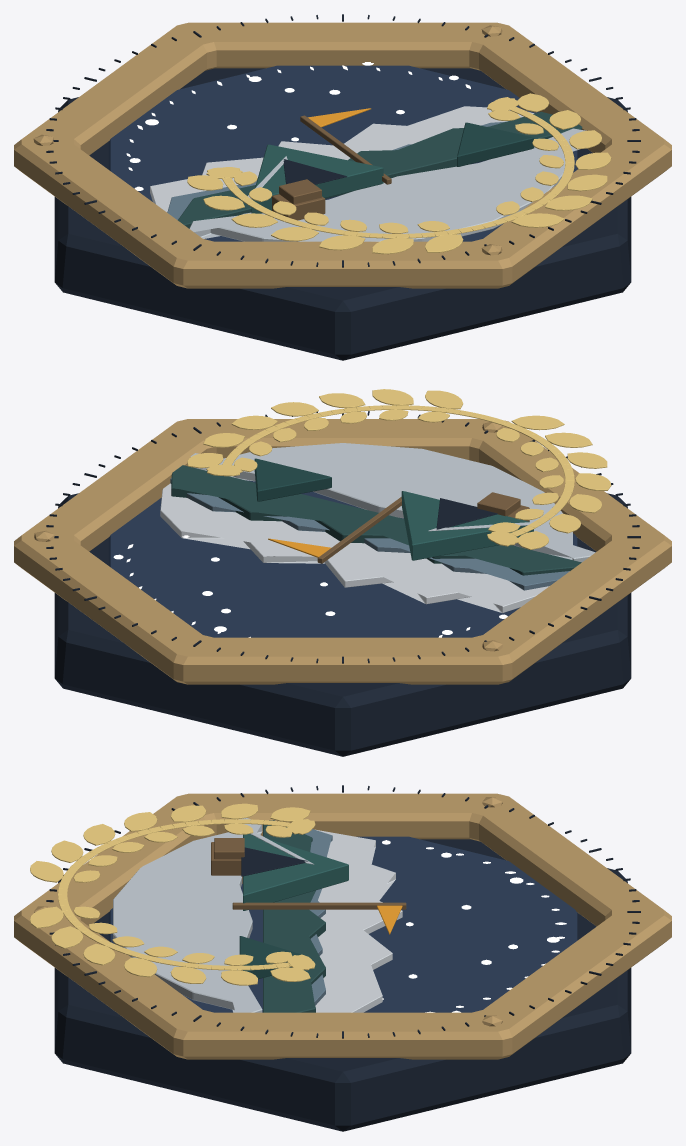
File: basecamp_grad.glb
The picture shows the model from 3 angles, top to bottom: view 1: azimuth 30°, elevation 25°; view 2: azimuth 150°, elevation 25°; view 3: azimuth 270°, elevation 25°; orthographic projection.
Parts seen in each view (by area): view 1: BG_FrameRing, BG_BasePlate, BG_Field, BC_Snow, BC_LeavesL, BC_LeavesR, BC_FarRange, BC_Ridge, BC_TentMain, BC_TentSmall, BC_StemL, BC_StemR (+7 smaller); view 2: BG_FrameRing, BG_BasePlate, BG_Field, BC_Snow, BC_FarRange, BC_Ridge, BC_LeavesR, BC_LeavesL, BC_TentMain, BC_FarShade, BC_TentSmall, BC_StemR (+7 smaller); view 3: BG_FrameRing, BG_BasePlate, BG_Field, BC_Snow, BC_FarRange, BC_LeavesL, BC_LeavesR, BC_Ridge, BC_TentMain, BC_StemR, BC_StemL, BC_FlagPole (+6 smaller).
Part boxes in pixels (left/top/right/bottom): BG_FrameRing: left=14, top=22, right=671, bottom=288; BG_BasePlate: left=54, top=68, right=631, bottom=360; BG_Field: left=108, top=65, right=577, bottom=241; BC_Snow: left=189, top=128, right=586, bottom=241; BC_LeavesL: left=187, top=171, right=463, bottom=254; BC_LeavesR: left=488, top=93, right=611, bottom=227; BC_FarRange: left=150, top=106, right=534, bottom=212; BC_Ridge: left=178, top=111, right=582, bottom=228; BC_TentMain: left=251, top=144, right=383, bottom=213; BC_TentSmall: left=457, top=122, right=534, bottom=166; BC_StemL: left=222, top=177, right=485, bottom=238; BC_StemR: left=481, top=106, right=574, bottom=228; BG_FrameRing: left=14, top=419, right=671, bottom=684; BG_BasePlate: left=54, top=493, right=631, bottom=756; BG_Field: left=108, top=480, right=577, bottom=637; BC_Snow: left=190, top=443, right=595, bottom=562; BC_FarRange: left=160, top=483, right=549, bottom=613; BC_Ridge: left=171, top=465, right=581, bottom=575; BC_LeavesR: left=187, top=389, right=463, bottom=472; BC_LeavesL: left=488, top=415, right=611, bottom=549; BC_TentMain: left=401, top=491, right=533, bottom=560; BC_FarShade: left=170, top=478, right=569, bottom=590; BC_TentSmall: left=254, top=458, right=331, bottom=501; BC_StemR: left=222, top=405, right=484, bottom=465; BG_FrameRing: left=14, top=793, right=671, bottom=1059; BG_BasePlate: left=54, top=839, right=631, bottom=1131; BG_Field: left=108, top=836, right=577, bottom=1012; BC_Snow: left=113, top=818, right=262, bottom=1012; BC_FarRange: left=315, top=829, right=402, bottom=1012; BC_LeavesL: left=30, top=803, right=310, bottom=882; BC_LeavesR: left=30, top=906, right=310, bottom=985; BC_Ridge: left=263, top=820, right=325, bottom=1012; BC_TentMain: left=243, top=834, right=348, bottom=910; BC_StemR: left=58, top=894, right=291, bottom=970; BC_StemL: left=58, top=819, right=290, bottom=894; BC_FlagPole: left=232, top=902, right=406, bottom=909.
Size of the model in its own units: 0.0393 by 0.00675 by 0.0394.
